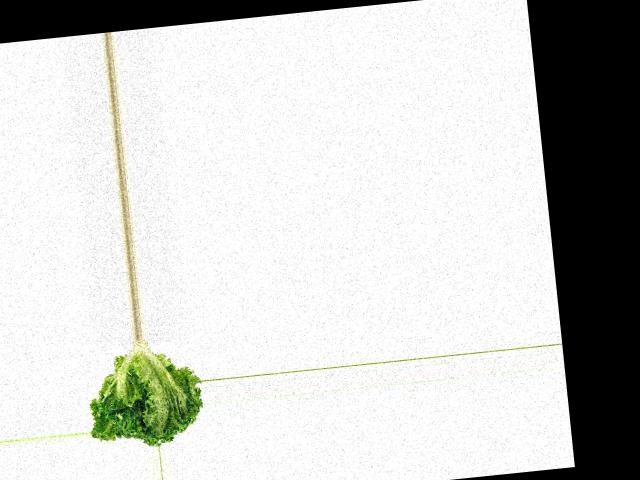lettuce: (83, 333, 207, 451)
